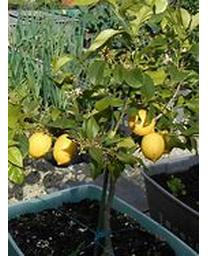lemon: (53, 136, 78, 165), (141, 134, 166, 162), (27, 132, 52, 157)
